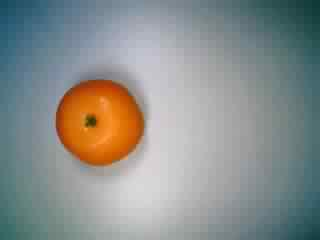orange: (51, 75, 149, 169)
